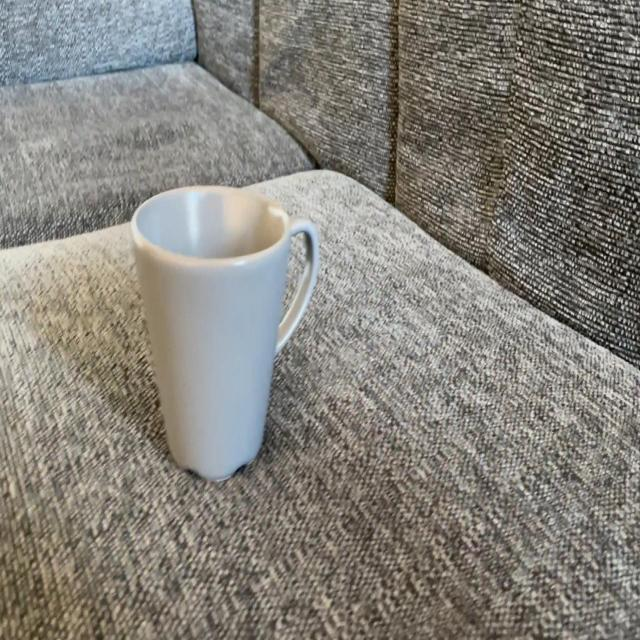cup: (131, 183, 317, 474)
